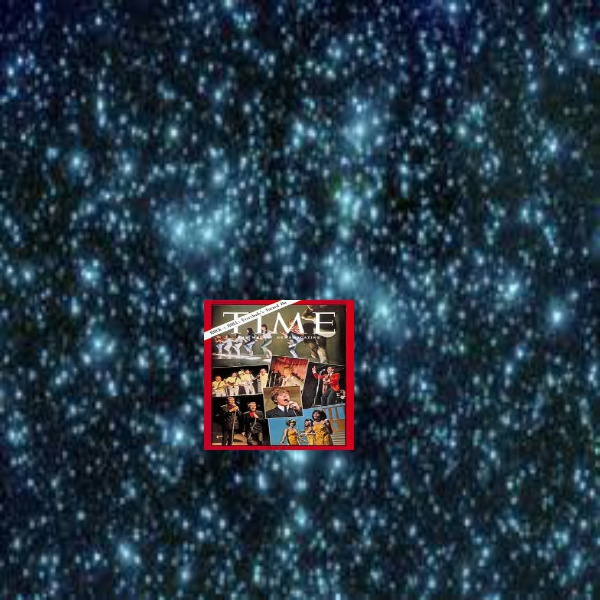time_cover: (200, 287, 362, 456)
